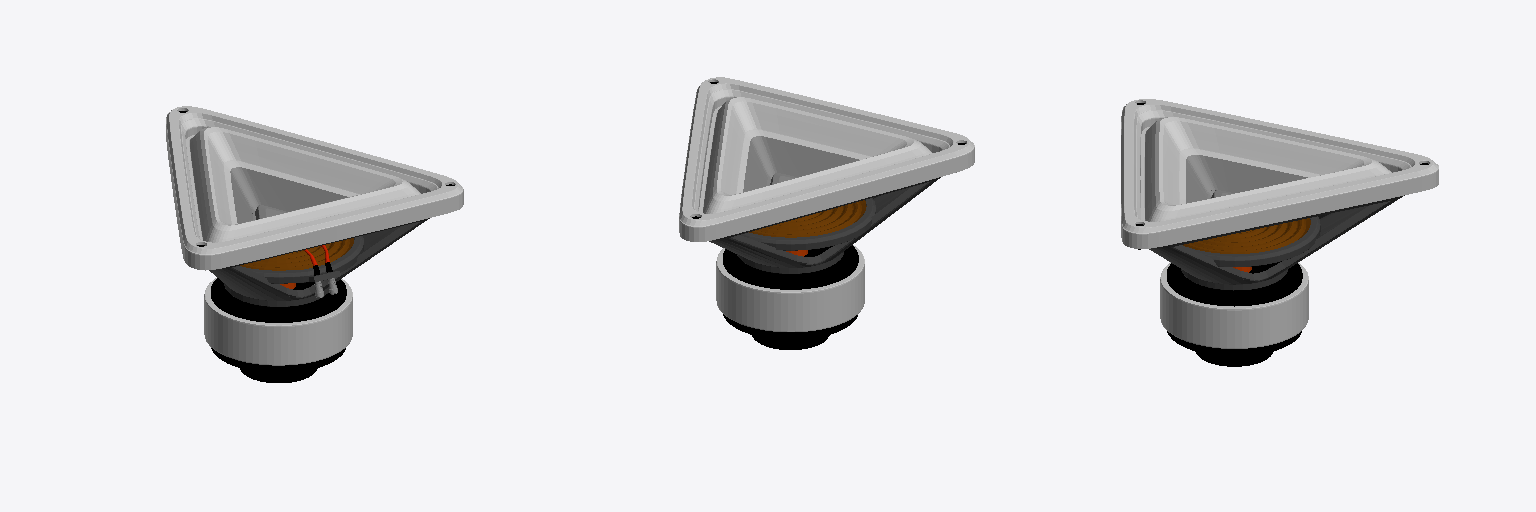
The model's file is Speakers.obj.
The picture shows the model from 3 angles: view 1: azimuth 30°, elevation 25°; view 2: azimuth 150°, elevation 25°; view 3: azimuth 270°, elevation 25°; orthographic projection.
Parts seen in each view (by area): view 1: Plano.003, Plano, Círculo.001_Círculo.002, Plano.001, Círculo_Círculo.001, Plano.005, Plano.006; view 2: Plano.003, Plano, Círculo.001_Círculo.002, Plano.001, Círculo_Círculo.001, Plano.005, Plano.006; view 3: Plano.003, Plano, Círculo.001_Círculo.002, Plano.001, Círculo_Círculo.001, Plano.005, Plano.006.
Part boxes in pixels (left/top/right/bottom): Plano.003: left=166, top=106, right=463, bottom=270; Plano: left=186, top=127, right=420, bottom=242; Círculo.001_Círculo.002: left=204, top=278, right=352, bottom=365; Plano.001: left=209, top=218, right=429, bottom=306; Círculo_Círculo.001: left=211, top=278, right=346, bottom=382; Plano.005: left=230, top=167, right=347, bottom=223; Plano.006: left=240, top=238, right=353, bottom=270; Plano.003: left=679, top=77, right=974, bottom=241; Plano: left=699, top=97, right=932, bottom=213; Círculo.001_Círculo.002: left=716, top=245, right=864, bottom=331; Plano.001: left=709, top=177, right=940, bottom=273; Círculo_Círculo.001: left=723, top=245, right=858, bottom=349; Plano.005: left=743, top=136, right=858, bottom=192; Plano.006: left=749, top=200, right=866, bottom=237; Plano.003: left=1121, top=99, right=1438, bottom=248; Plano: left=1140, top=117, right=1391, bottom=221; Círculo.001_Círculo.002: left=1160, top=262, right=1308, bottom=348; Plano.001: left=1149, top=195, right=1404, bottom=290; Círculo_Círculo.001: left=1167, top=261, right=1302, bottom=366; Plano.005: left=1186, top=155, right=1307, bottom=203; Plano.006: left=1183, top=218, right=1310, bottom=253.
Size of the model in its own units: 0.2502 by 0.1664 by 0.2543.